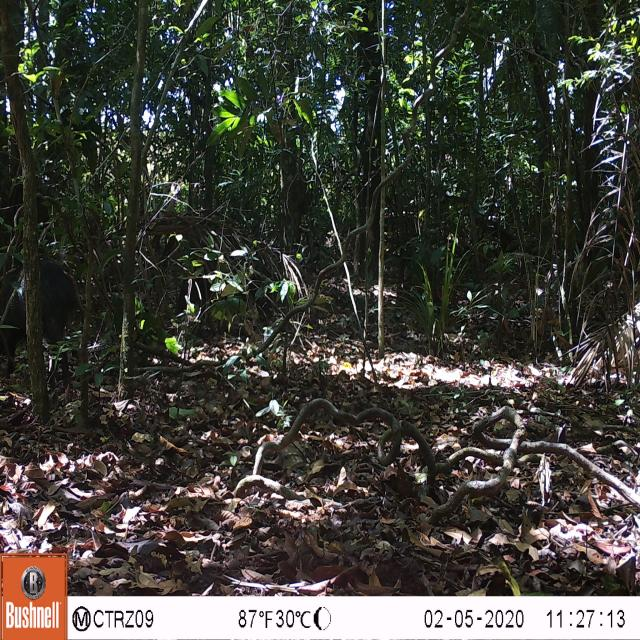Collared Peccary: (0, 241, 87, 404), (166, 247, 278, 328)
